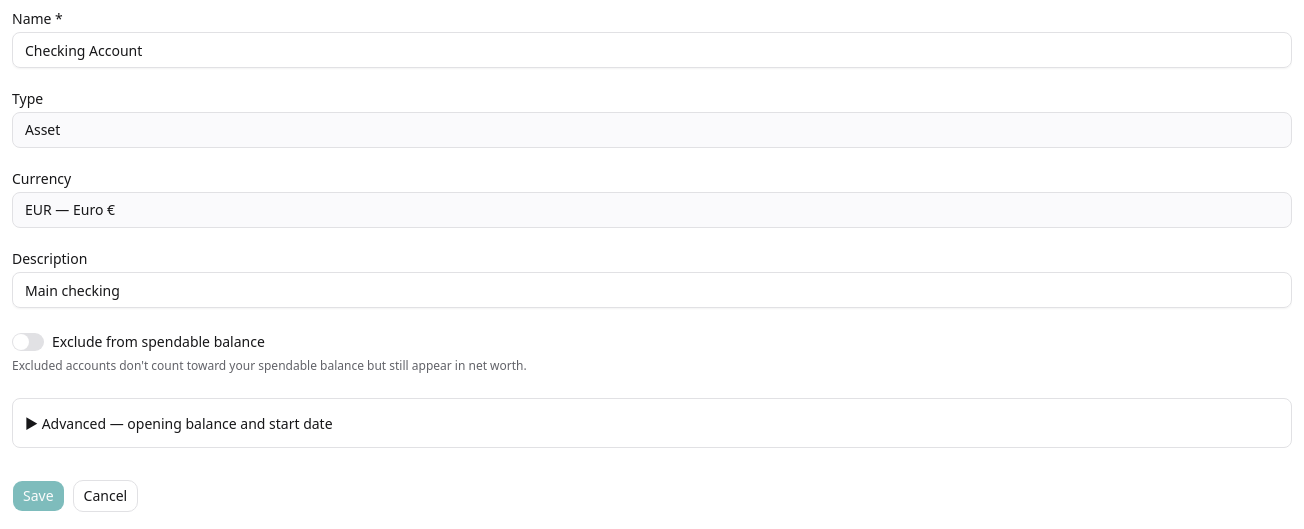
it: AccountForm › Save shows "Saving…" while pending
Replace the text in the field labelled "Name *" with "Renamed" at [652, 50], box [12, 32, 1292, 68]
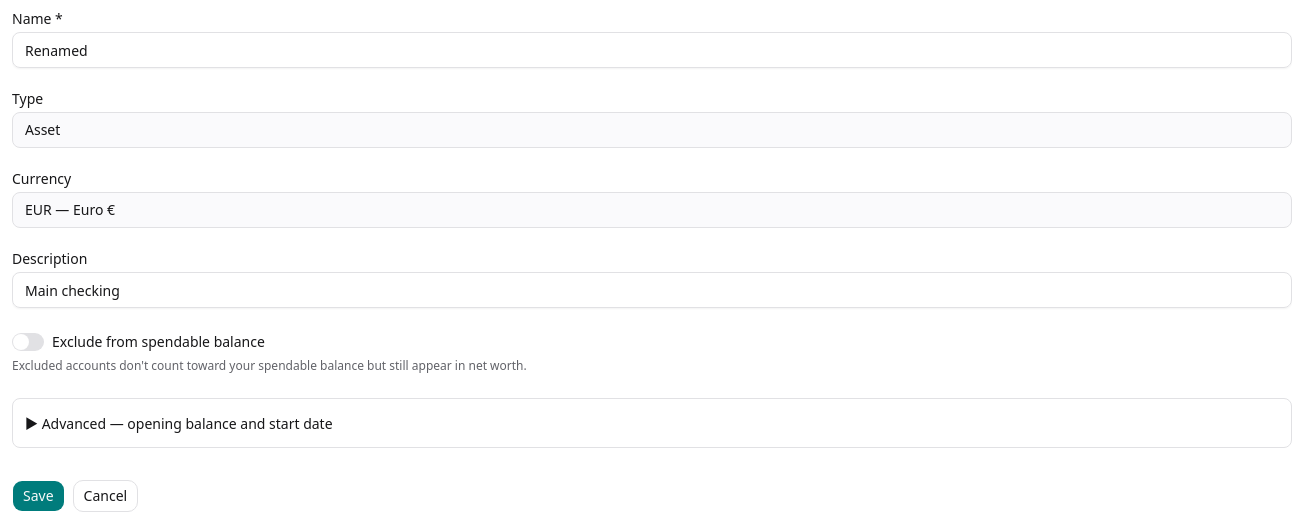
Click the button "Save".
click(38, 496)  # box [12, 480, 65, 512]
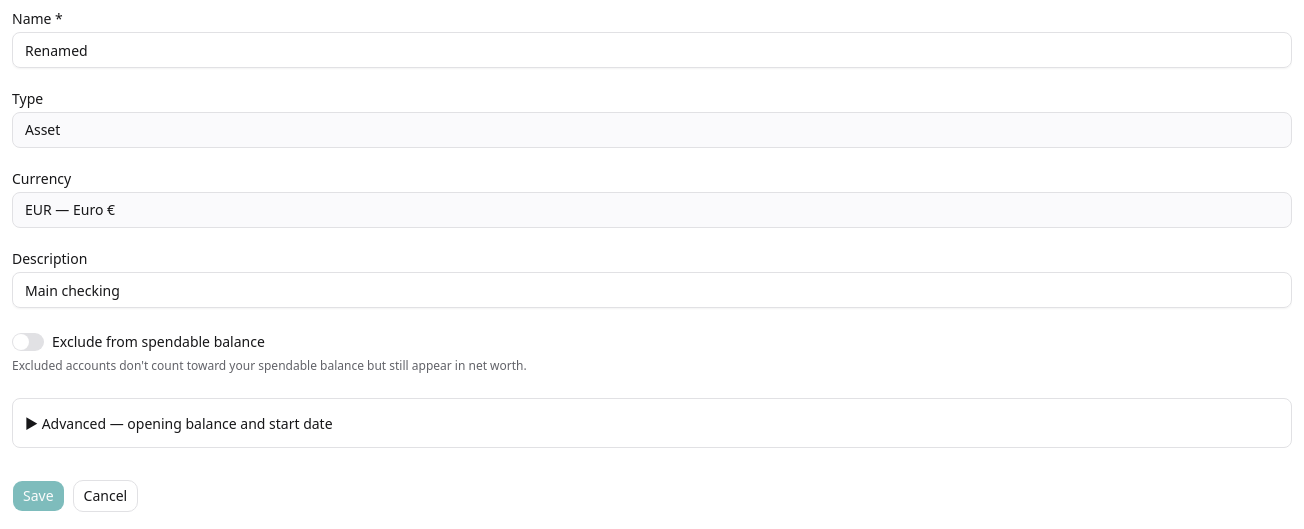
Expected: the button named "saving" is disabled, [12, 480, 65, 512]
